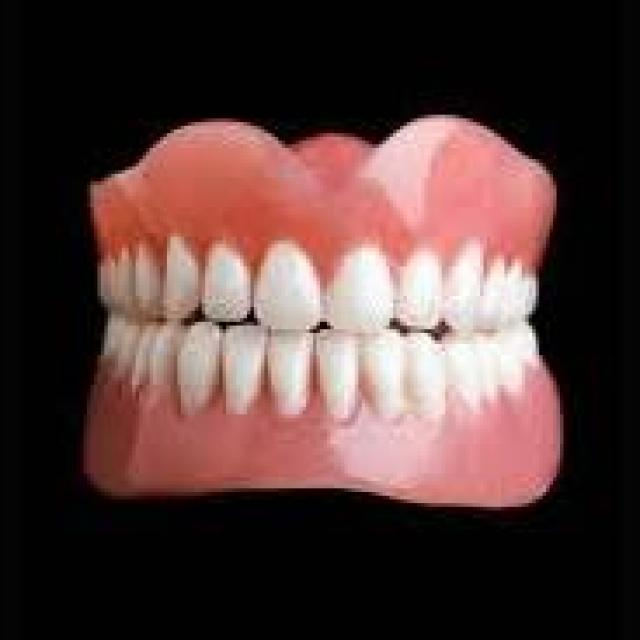tooth: (324, 256, 404, 330), (257, 248, 320, 329), (313, 326, 365, 418), (452, 336, 550, 384), (216, 318, 264, 411), (407, 336, 456, 426), (261, 318, 306, 411), (369, 333, 410, 433), (157, 230, 205, 314), (442, 252, 490, 329), (491, 259, 546, 326), (184, 322, 226, 407), (390, 262, 445, 326), (132, 237, 167, 318), (108, 314, 149, 381), (216, 240, 243, 330), (97, 252, 136, 310), (153, 318, 177, 392)
